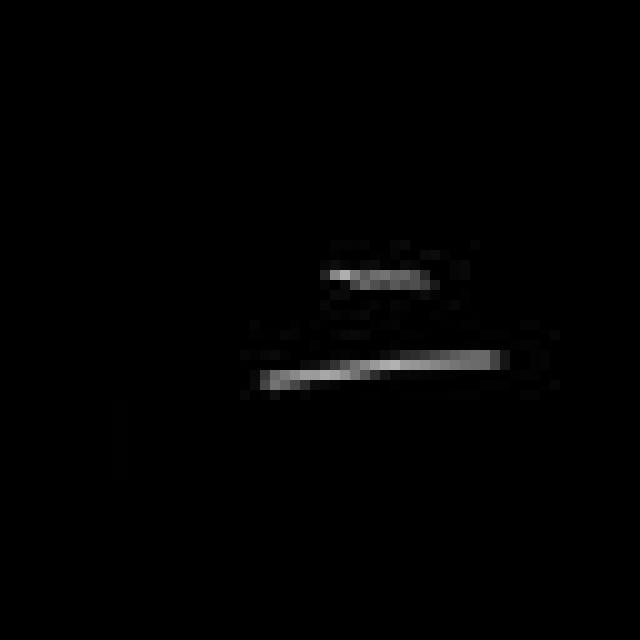2 -two-: (247, 253, 507, 411)
